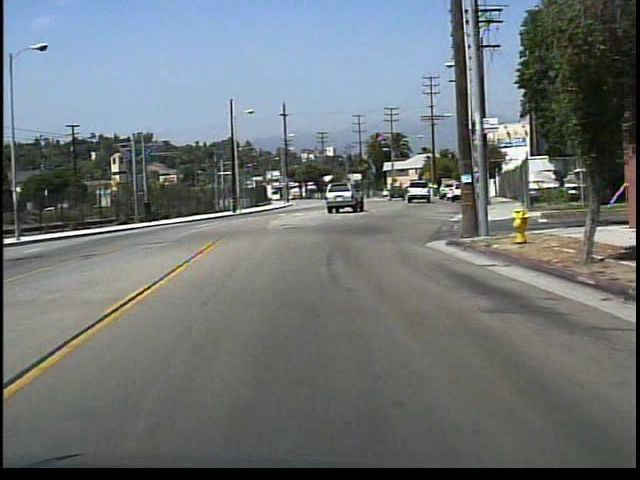person: (142, 193, 159, 224)
